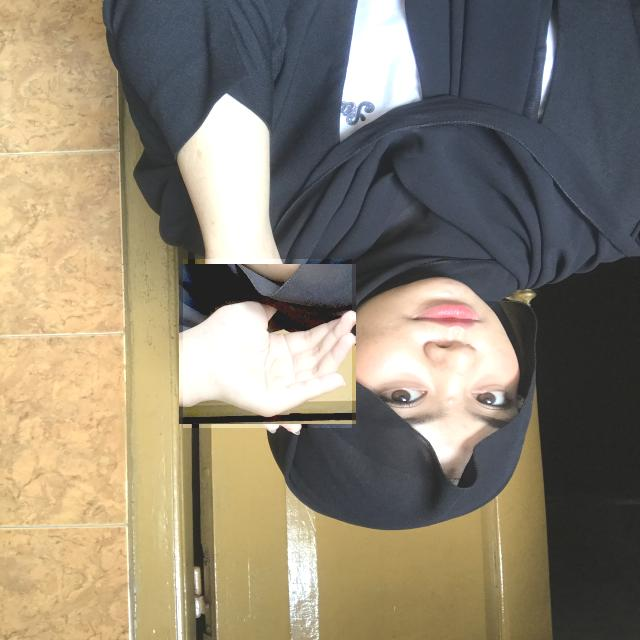mendengar: (183, 259, 352, 428)
